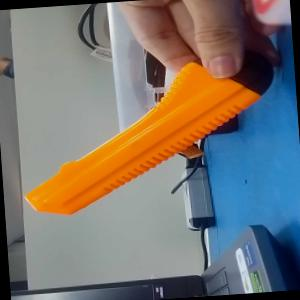estilete: (13, 35, 284, 218)
